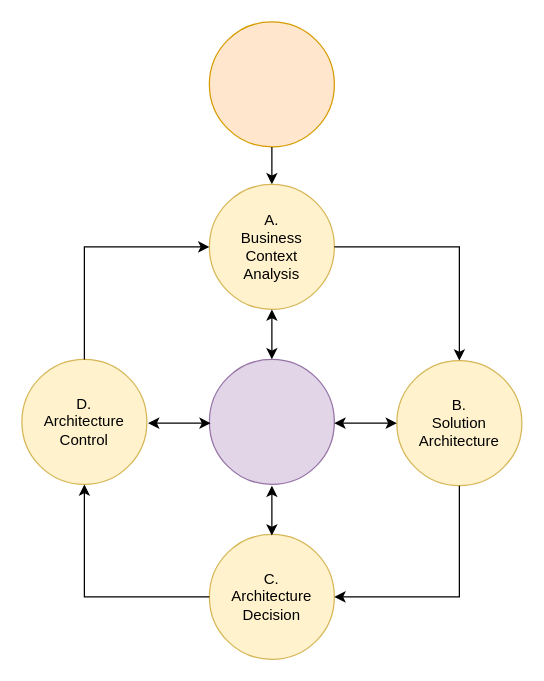
The diagram is 544 pixels wide and 681 high, and some of its shapes have lost their labels. The box of each missing label's shape, as (x1, y1, x2, y2) in pixels:
E. Architecture Repository: (208, 358, 334, 484)
Requirements: (208, 21, 334, 147)
